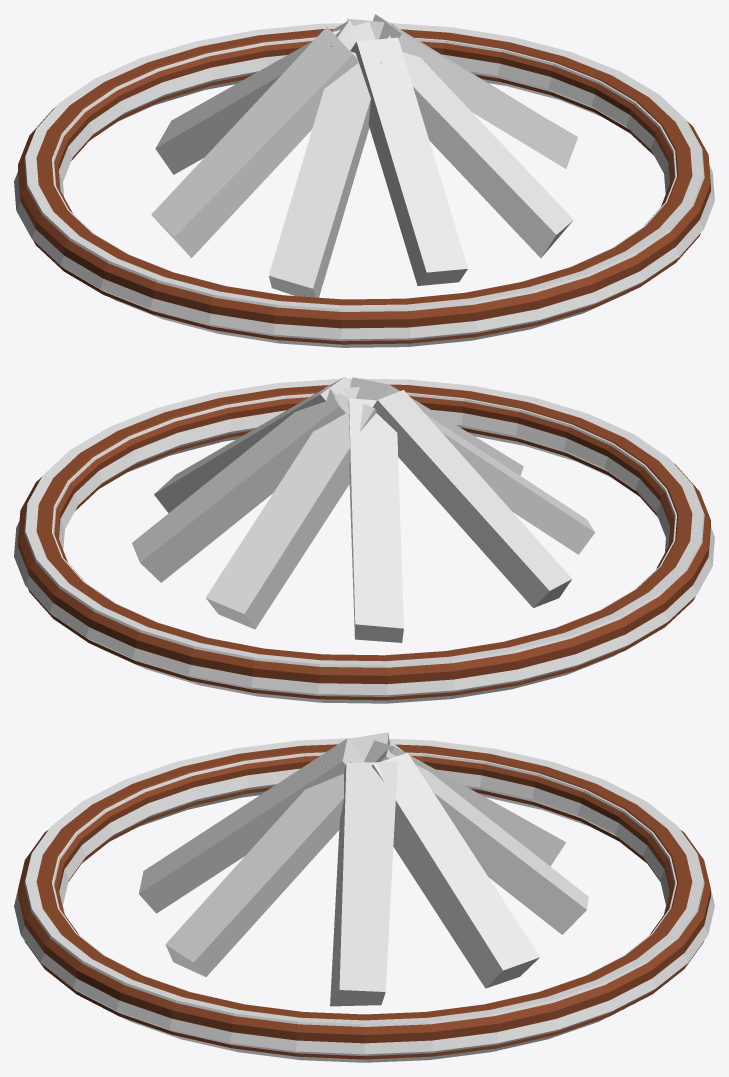
File: jangjak 1.fbx
3 views of the same model, one above another, from view 1: azimuth 30°, elevation 25°; view 2: azimuth 150°, elevation 25°; view 3: azimuth 270°, elevation 25° (orthographic).
Visible parts, largest first — view 1: Circle, Cube.005; view 2: Circle, Cube.005; view 3: Circle, Cube.005.
Boxes of the visible parts, x1,y1,x2,y2 form: Circle: (14, 23, 714, 347); Cube.005: (151, 14, 577, 297); Circle: (14, 378, 714, 703); Cube.005: (132, 376, 595, 642); Circle: (14, 738, 714, 1062); Cube.005: (139, 732, 588, 1006).
Size of the model in its own units: 117 by 33.95 by 117.
